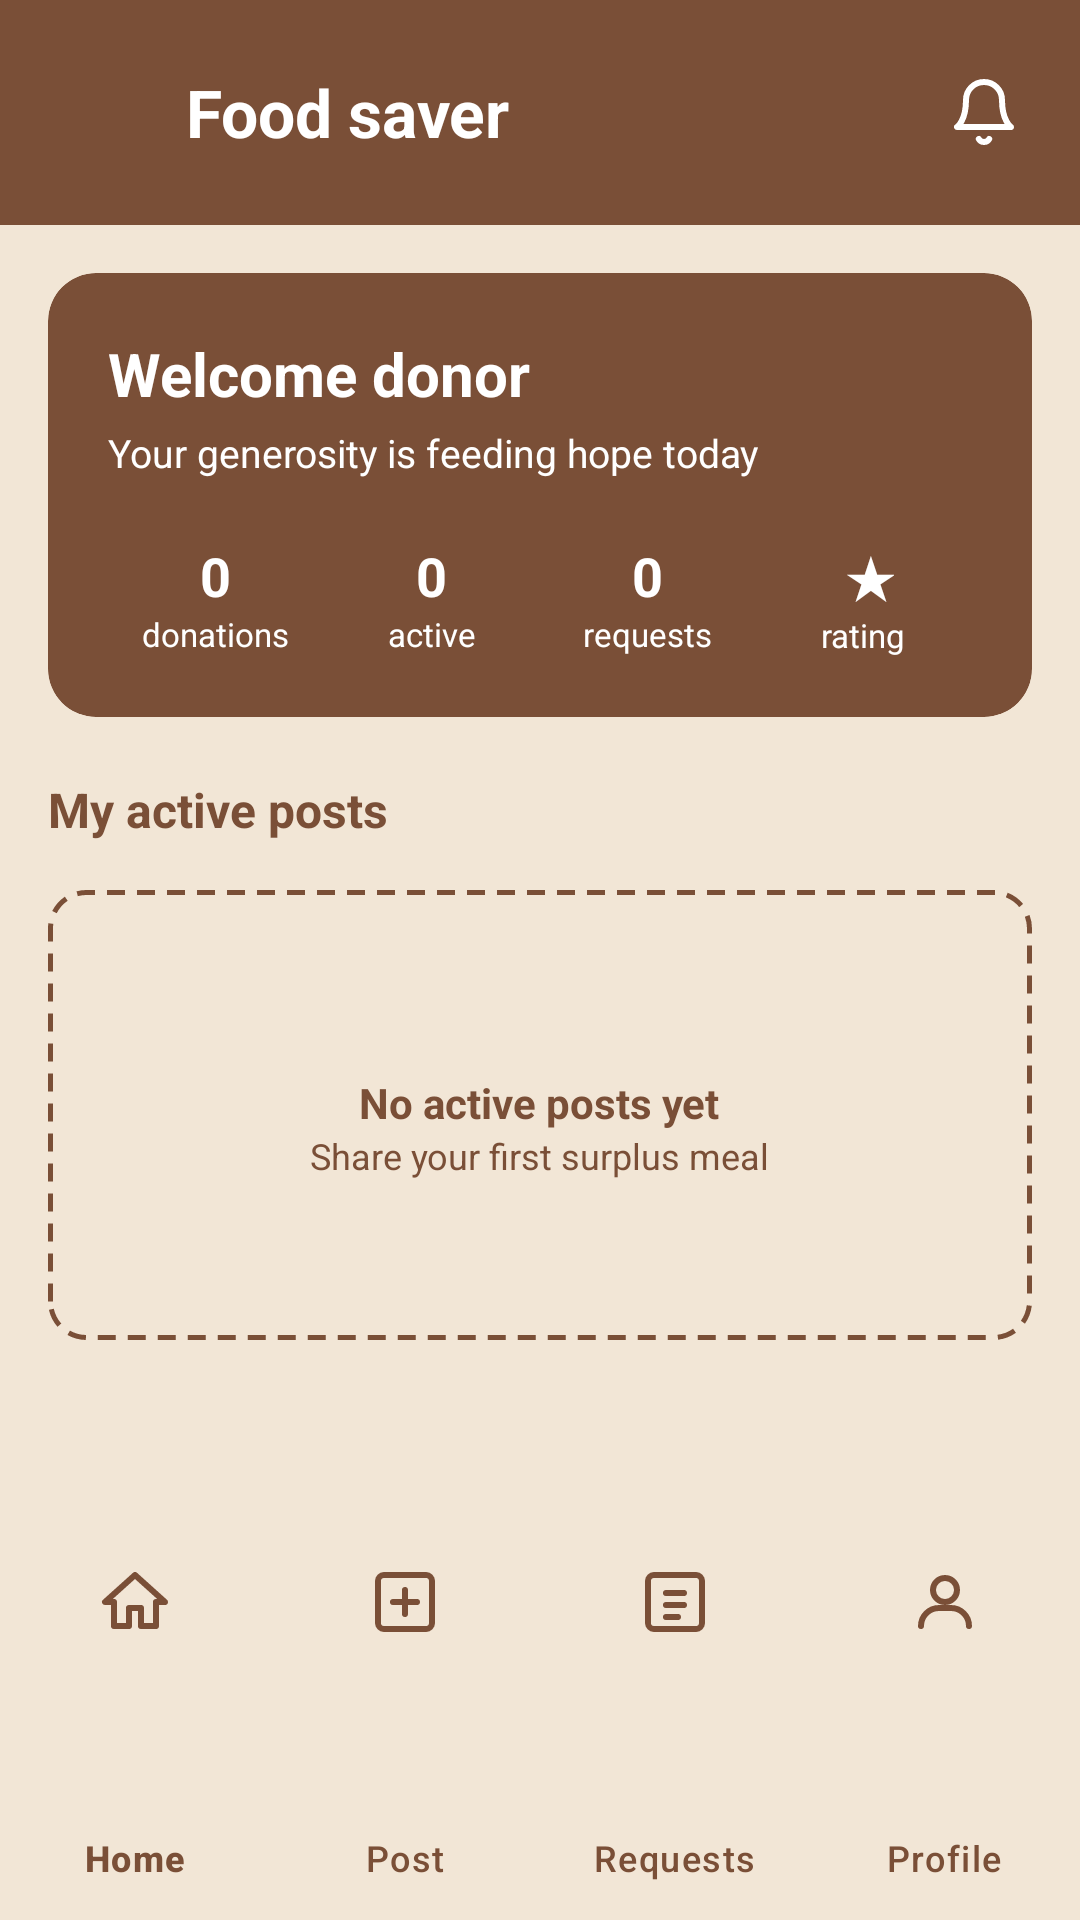

Point at icon controls on the screen. Image size 1080 × 1920, points as point (x, y).
Notification: point (984, 112)
